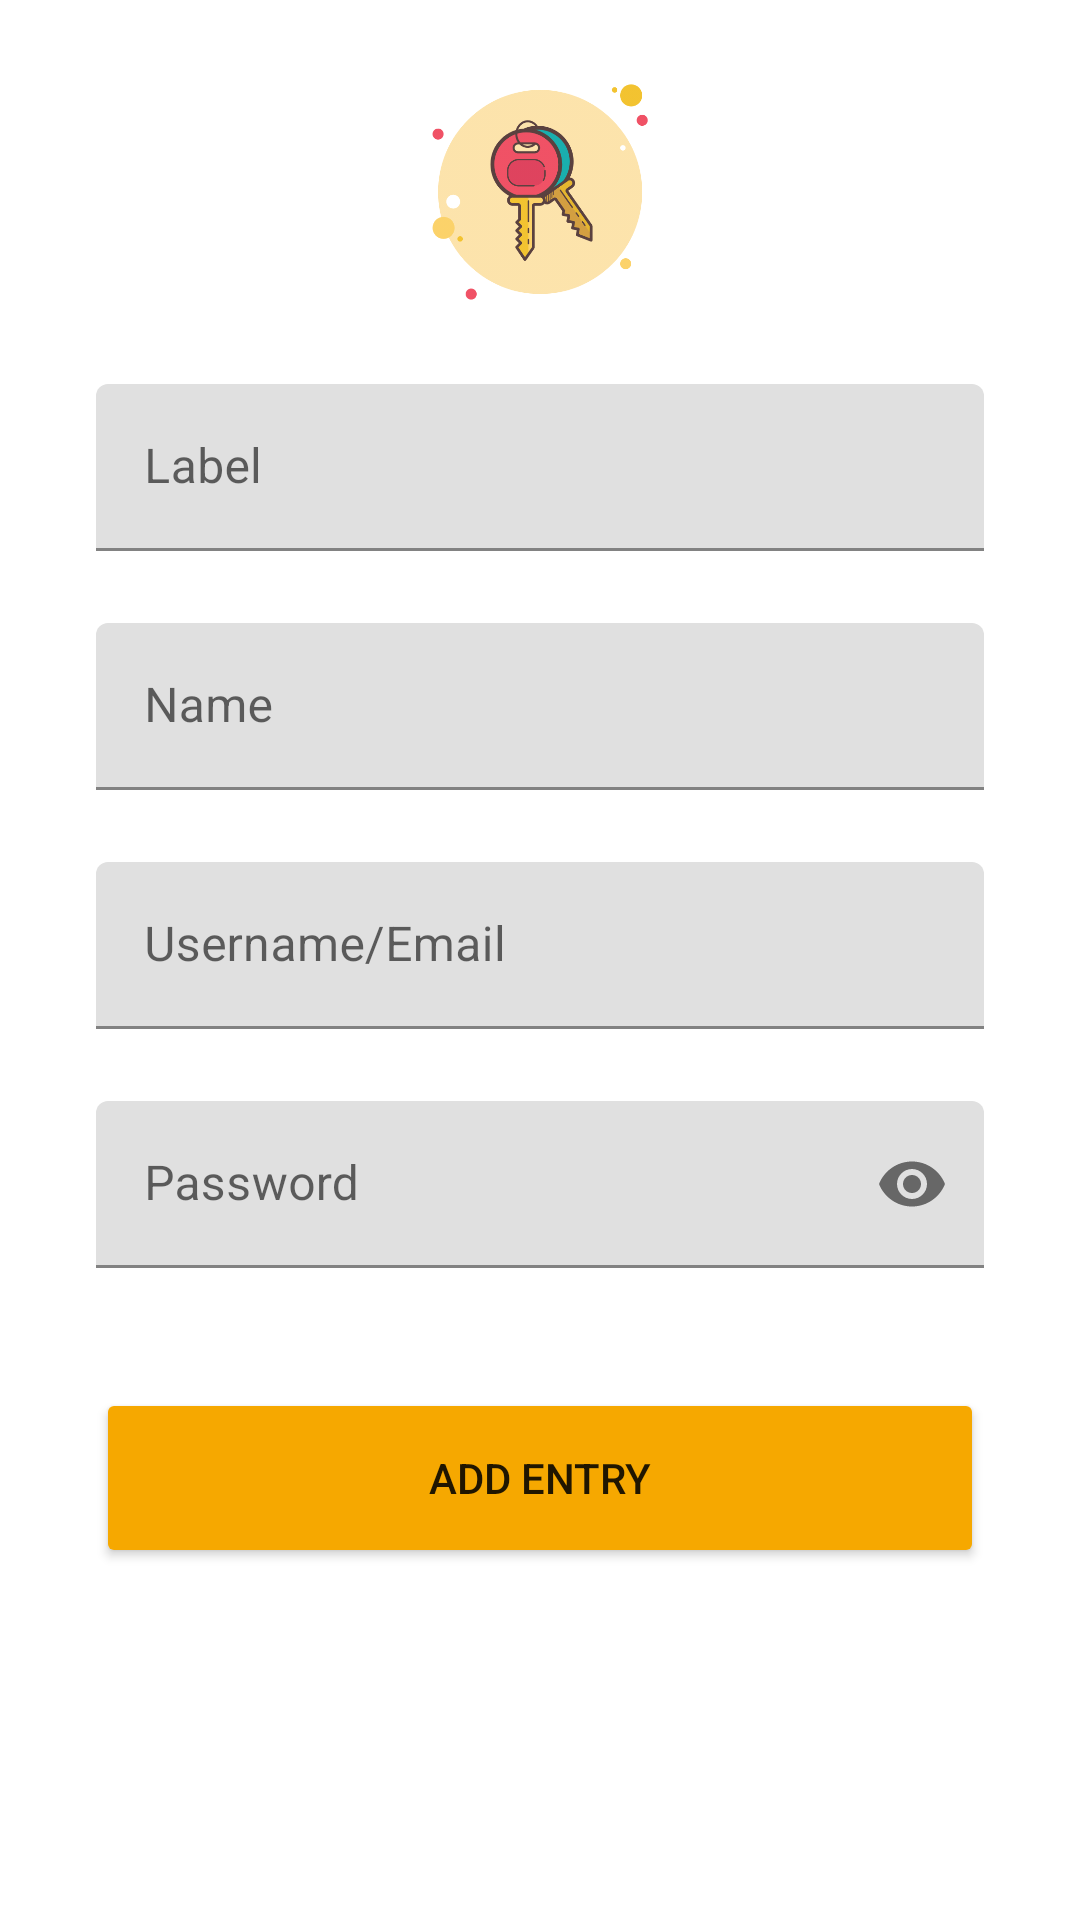

Locate icon controls on the screen. Image size 1080 × 1920, boxes as (x1, y1, x2, y2).
graphic key: (432, 84, 648, 300)
